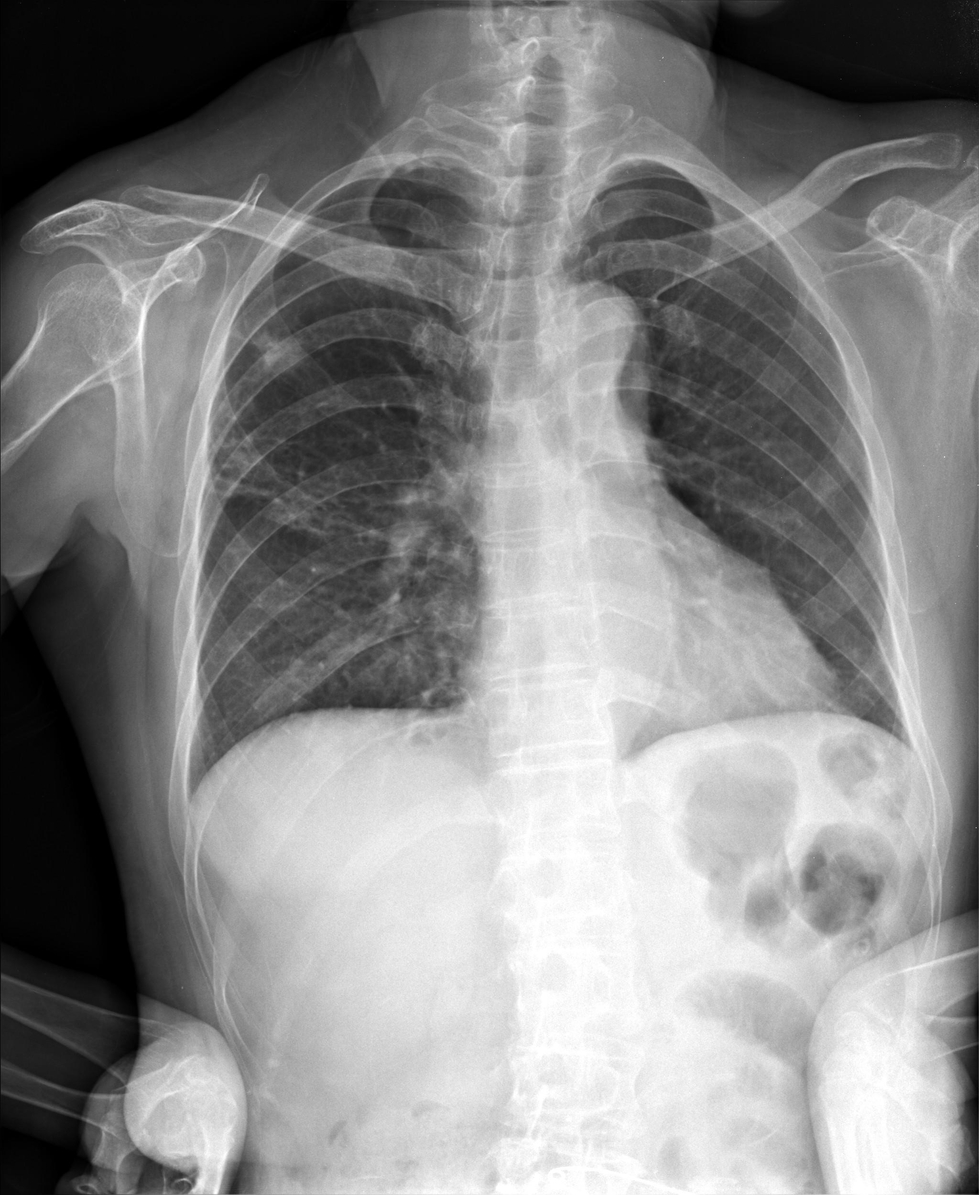Aortic enlargement: (532, 280, 645, 371)
Cardiomegaly: (457, 619, 852, 738)
Pleural thickening: (366, 142, 481, 177)
Pulmonary fibrosis: (208, 378, 456, 555)
